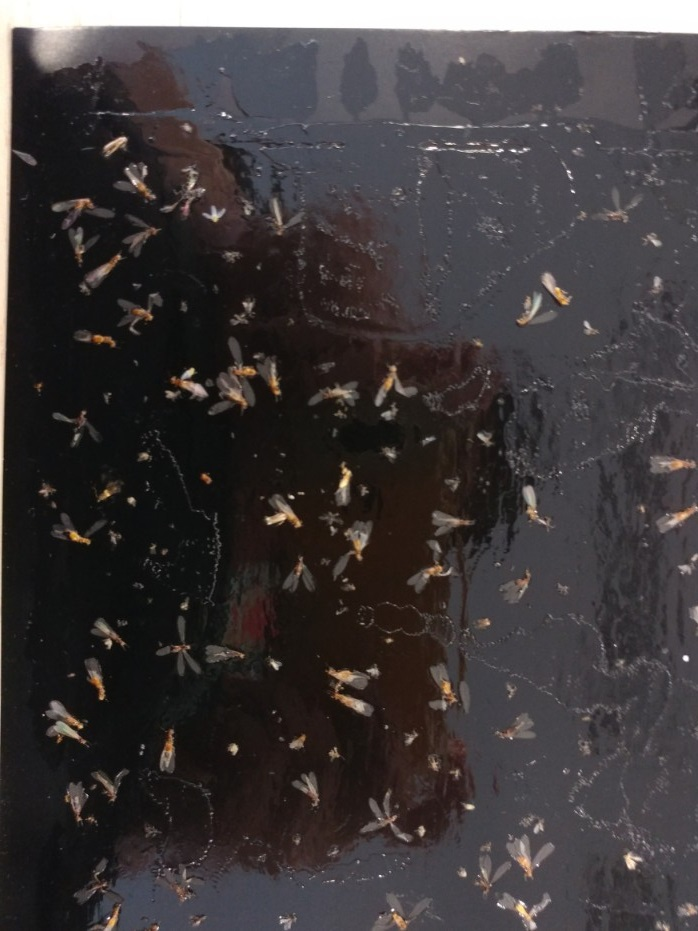flying termite: (80, 249, 131, 305), (516, 480, 563, 535), (308, 660, 384, 693), (324, 689, 380, 726), (158, 722, 190, 776), (652, 448, 698, 480)
